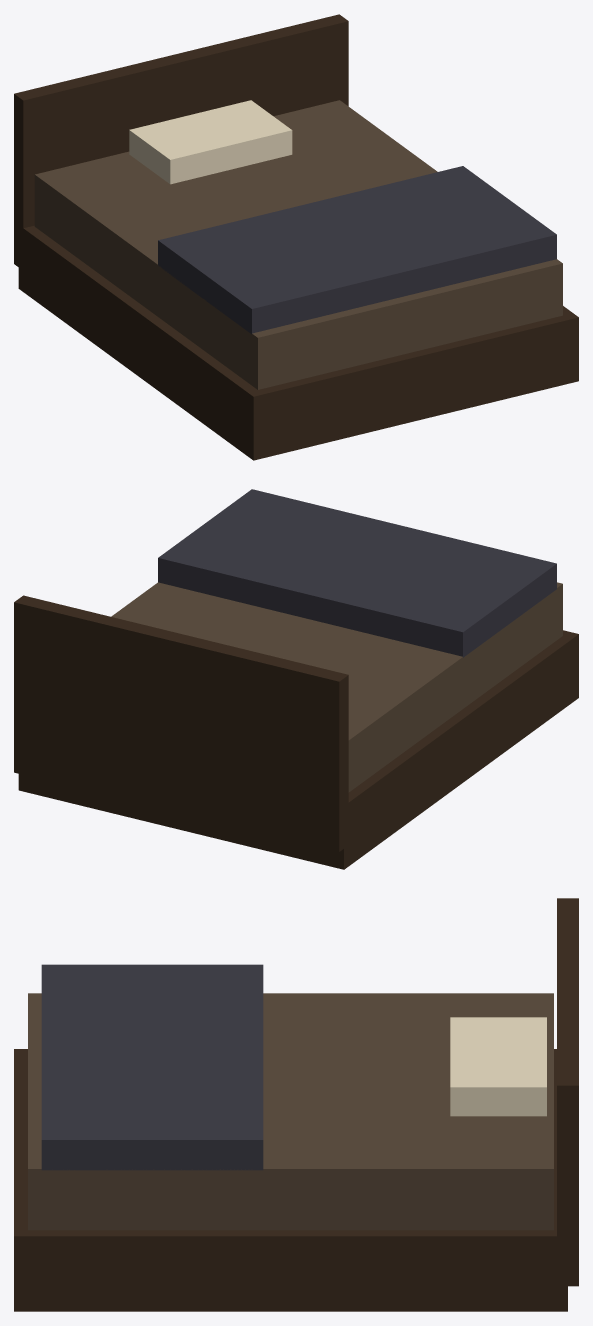
Rendered from PRP_Bed_A.glb.
3 renders of one model, top to bottom at view 1: azimuth 30°, elevation 25°; view 2: azimuth 150°, elevation 25°; view 3: azimuth 270°, elevation 25°, orthographic. The views are drawn at different scales.
Visible parts, largest first — view 1: PRP_Bed_A_Mattress, PRP_Bed_A_Frame, PRP_Bed_A_Blanket, PRP_Bed_A_Headboard, PRP_Bed_A_Pillow; view 2: PRP_Bed_A_Headboard, PRP_Bed_A_Blanket, PRP_Bed_A_Mattress, PRP_Bed_A_Frame; view 3: PRP_Bed_A_Mattress, PRP_Bed_A_Frame, PRP_Bed_A_Blanket, PRP_Bed_A_Pillow, PRP_Bed_A_Headboard.
Part boxes in pixels (x1,y1,x2,y2): PRP_Bed_A_Mattress: (34,100,562,389); PRP_Bed_A_Frame: (18,225,578,460); PRP_Bed_A_Blanket: (158,166,556,334); PRP_Bed_A_Headboard: (14,14,348,269); PRP_Bed_A_Pillow: (129,100,292,184); PRP_Bed_A_Headboard: (14,595,348,851); PRP_Bed_A_Blanket: (158,489,556,657); PRP_Bed_A_Mattress: (111,582,562,792); PRP_Bed_A_Frame: (18,630,578,869); PRP_Bed_A_Mattress: (28,993,553,1230); PRP_Bed_A_Frame: (14,1049,567,1311); PRP_Bed_A_Blanket: (41,964,263,1170); PRP_Bed_A_Pillow: (450,1017,546,1116); PRP_Bed_A_Headboard: (557,898,578,1286).
Bounding box in the file's own units: 1.6 × 0.9 × 2.04.
